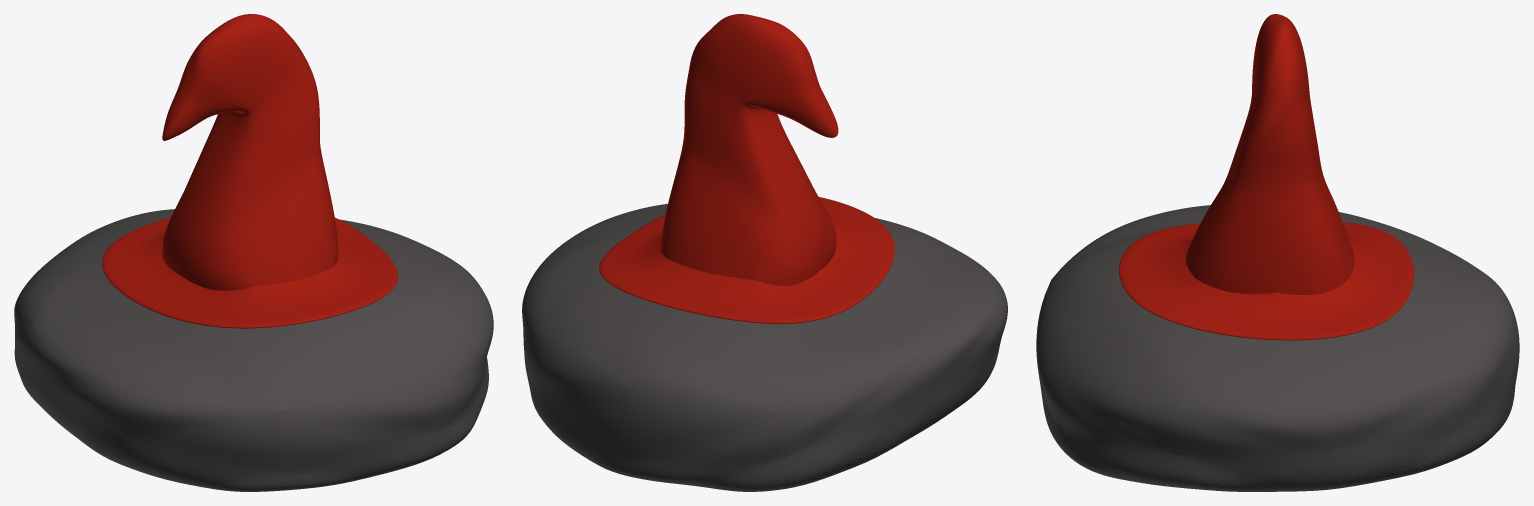
The model's file is Black Piece.fbx.
3 renders of one model, left to right at view 1: azimuth 30°, elevation 25°; view 2: azimuth 150°, elevation 25°; view 3: azimuth 270°, elevation 25°, orthographic.
Parts seen in each view (by area): view 1: White Piece, Model; view 2: White Piece, Model; view 3: White Piece, Model.
Part boxes in pixels (left/top/right/bottom): White Piece: left=14, top=209, right=493, bottom=491; Model: left=102, top=14, right=397, bottom=328; White Piece: left=522, top=204, right=1007, bottom=491; Model: left=599, top=14, right=894, bottom=323; White Piece: left=1036, top=205, right=1519, bottom=491; Model: left=1119, top=14, right=1413, bottom=340.
Bounding box in the file's own units: 92.41 × 84.45 × 92.31.
